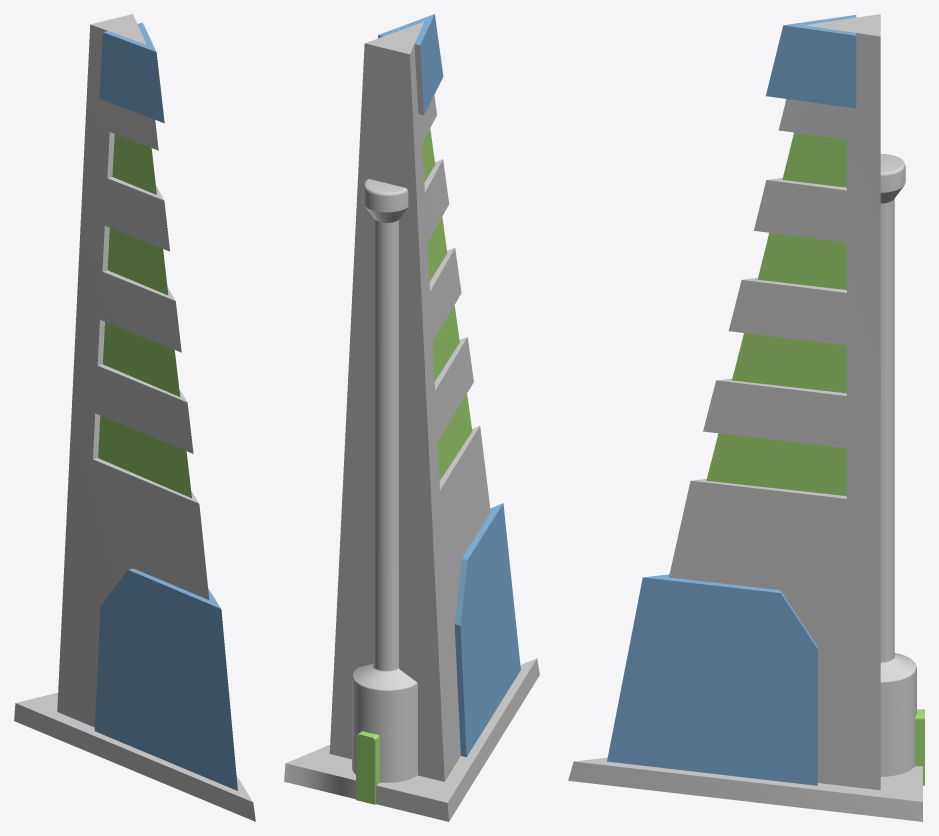
File: terraformBuilding1.fbx
3 views of the same model, side by side, from view 1: azimuth 30°, elevation 25°; view 2: azimuth 150°, elevation 25°; view 3: azimuth 270°, elevation 25° (orthographic). The views are drawn at different scales.
Parts seen in each view (by area): view 1: TeraformBuilding1; view 2: TeraformBuilding1; view 3: TeraformBuilding1.
Boxes of the visible parts, <box> form: TeraformBuilding1: <box>14,14,255,821</box>; TeraformBuilding1: <box>284,14,539,821</box>; TeraformBuilding1: <box>568,14,924,821</box>.
Size of the model in its own units: 493 by 2106 by 902.
